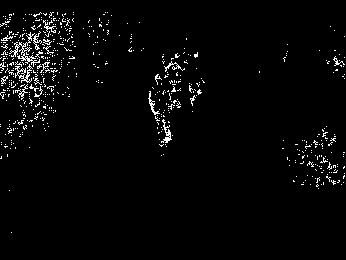person: (149, 73, 175, 150)
